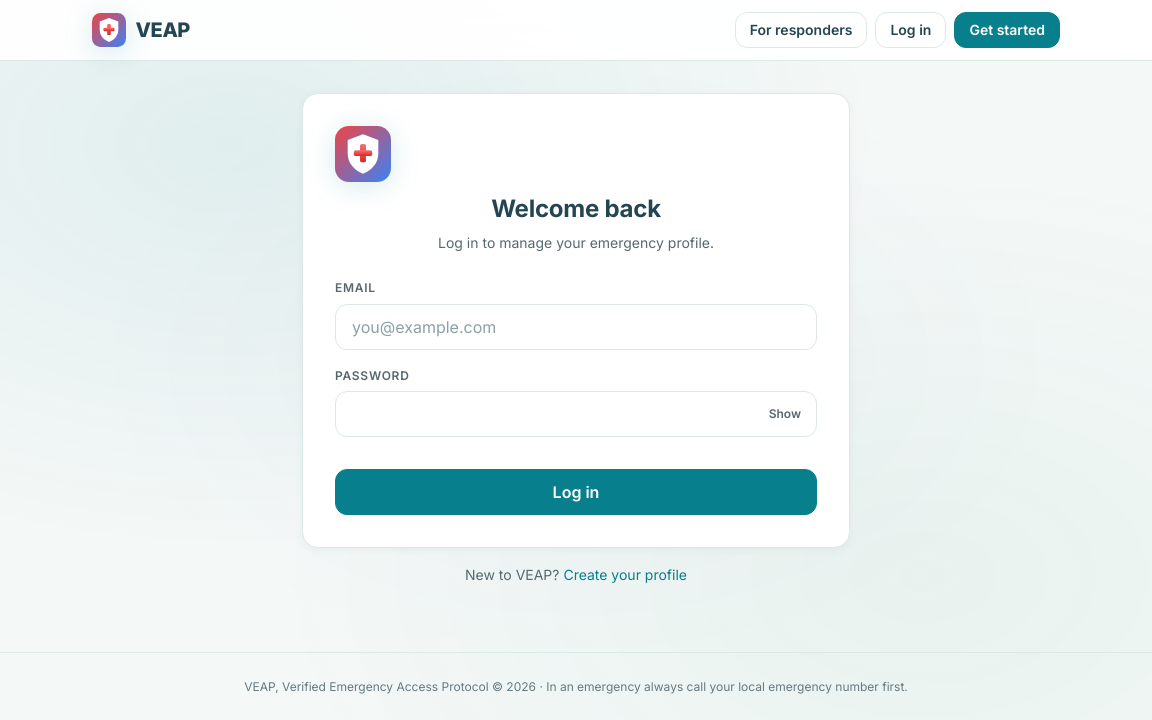
Test: public pages › shows an error for invalid login and lets you toggle password visibility
In the field labelled "Email": (576, 327) [335,304,817,350], type "a@b.co"
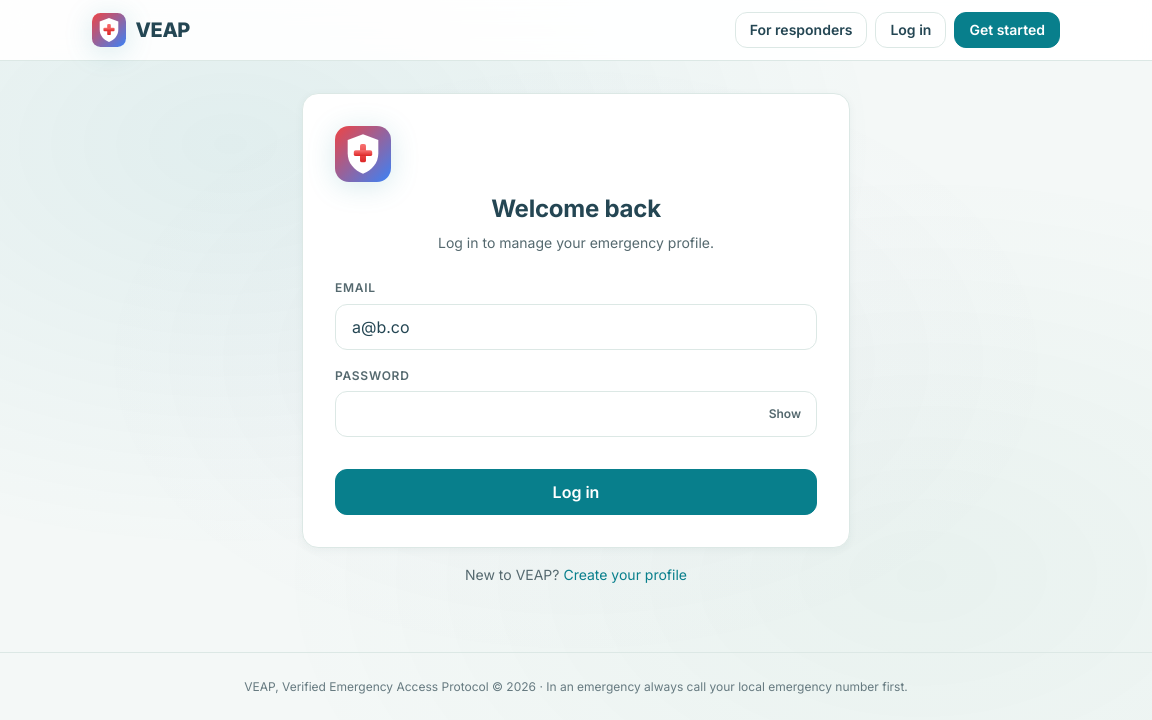
In the password field labelled "Password": (576, 414) [335,391,817,437], type "wrongpass"
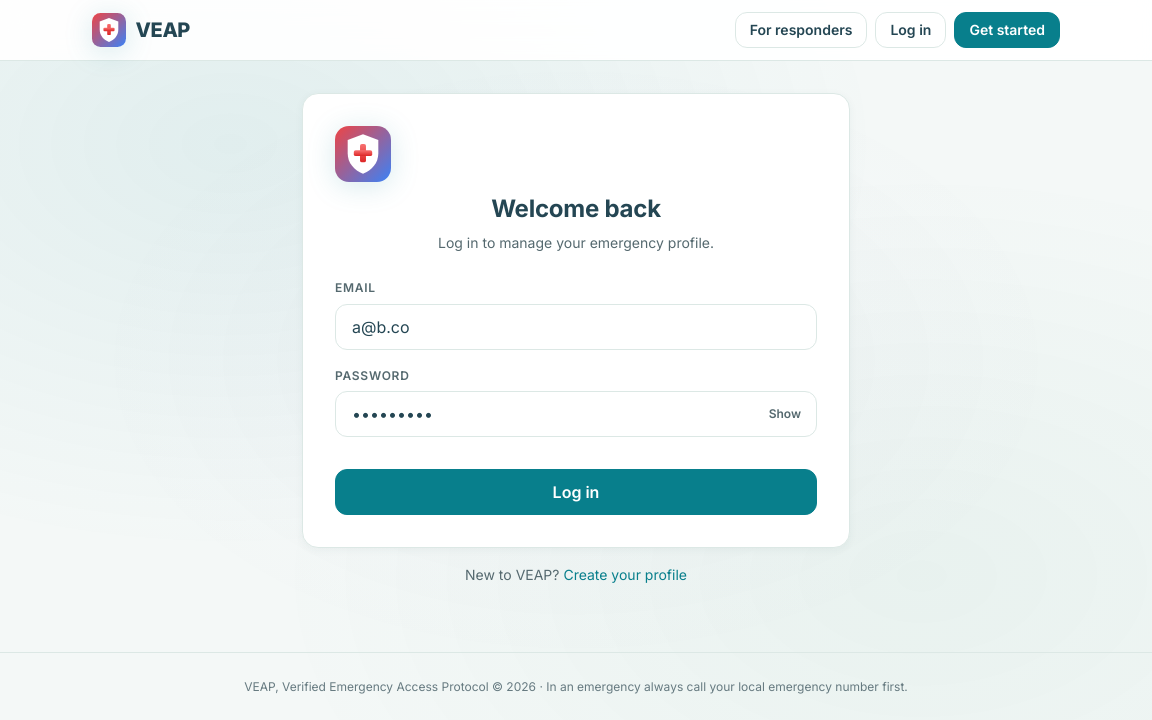
Click the button with aria-label "Show password": click(785, 414) [761,398,809,430]
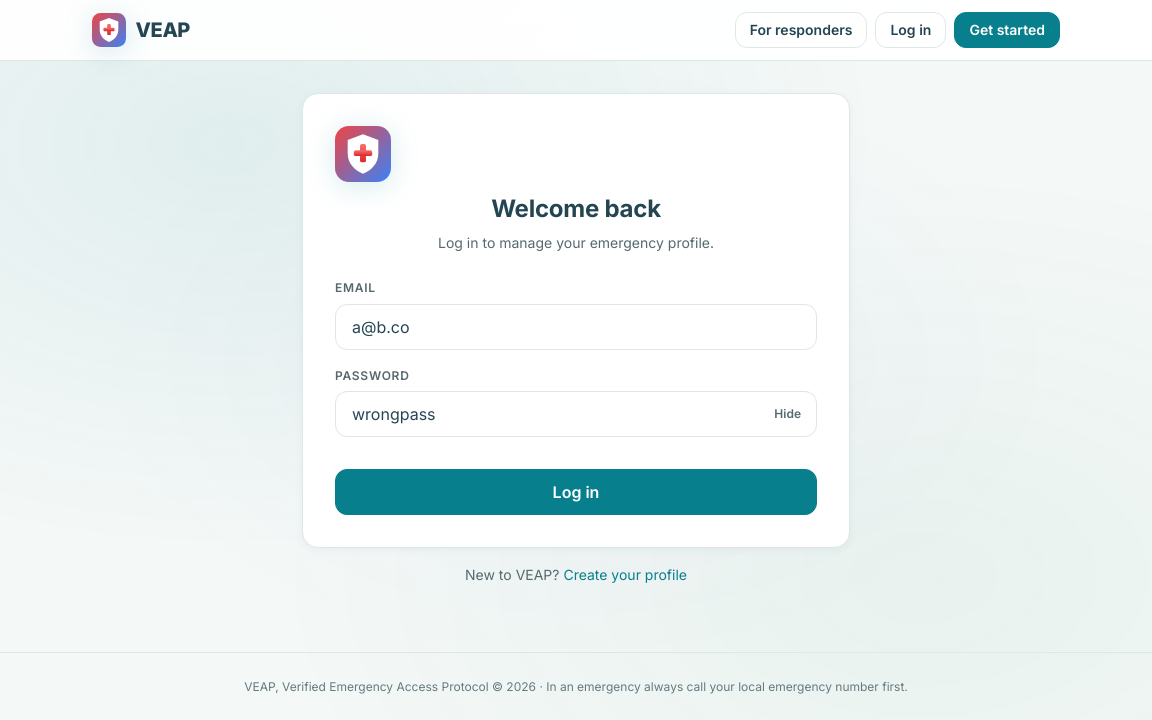
Submit the form named "login form", box [335,278,817,515]
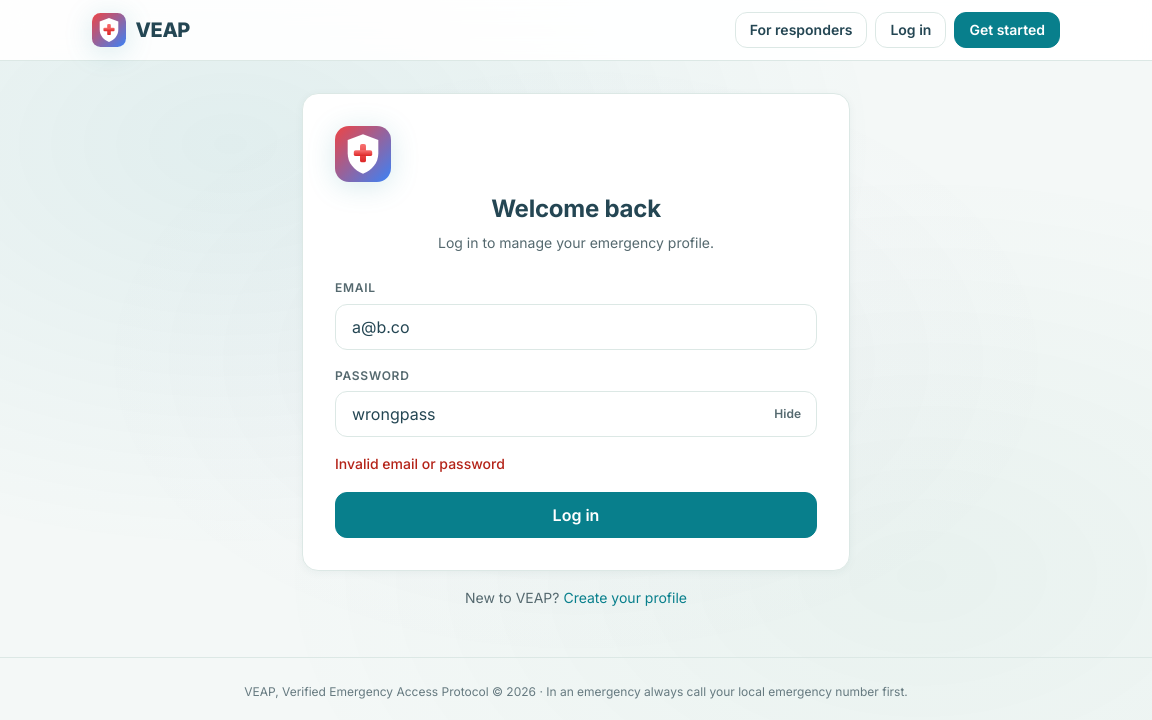
Check: the message reads "Invalid email or password", box [335,455,505,472]
